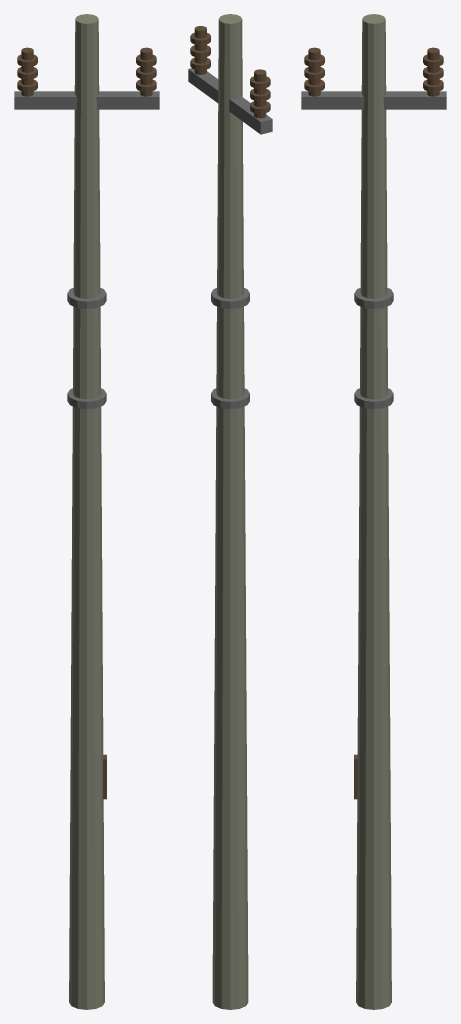
File: utility_pole.fbx
3 views of the same model, side by side, from view 1: azimuth 90°, elevation 25°; view 2: azimuth 210°, elevation 25°; view 3: azimuth 270°, elevation 25° (orthographic).
Parts seen in each view (by area): view 1: utility_pole.001; view 2: utility_pole.001; view 3: utility_pole.001.
Boxes of the visible parts, x1,y1,x2,y2 form: utility_pole.001: (14,14,159,1009); utility_pole.001: (188,14,272,1009); utility_pole.001: (301,14,446,1009).
Size of the model in its own units: 0.284 by 7.85 by 1.05.
